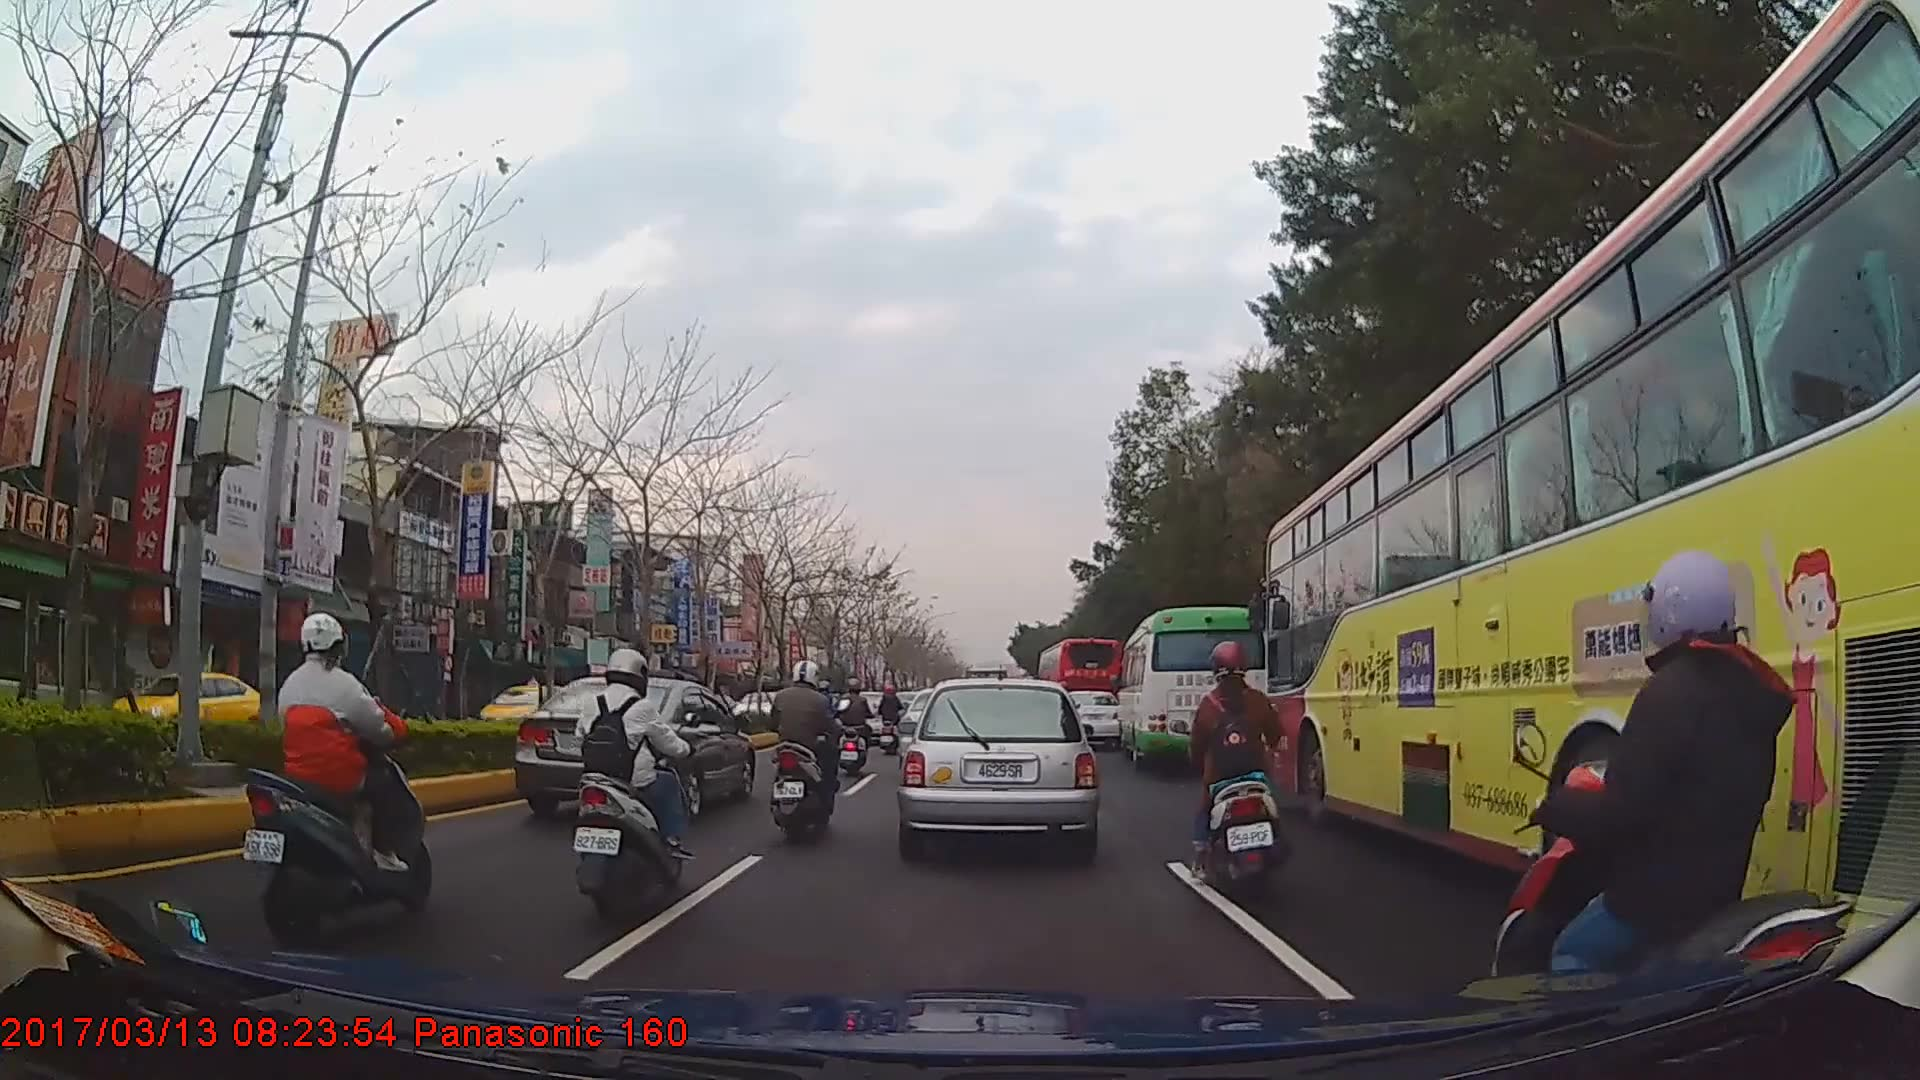rider: (1499, 549, 1875, 1046), (243, 606, 434, 946), (570, 642, 691, 930), (1171, 636, 1286, 900), (759, 658, 841, 843), (836, 677, 876, 775), (878, 682, 904, 754)
vehicle: (1261, 0, 1919, 958), (897, 676, 1099, 855), (510, 672, 754, 819), (1115, 605, 1265, 772), (99, 660, 275, 745), (1037, 634, 1122, 739), (467, 672, 579, 739)
